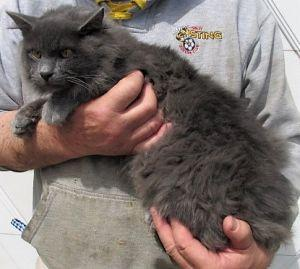rblue: (4, 1, 111, 110)
